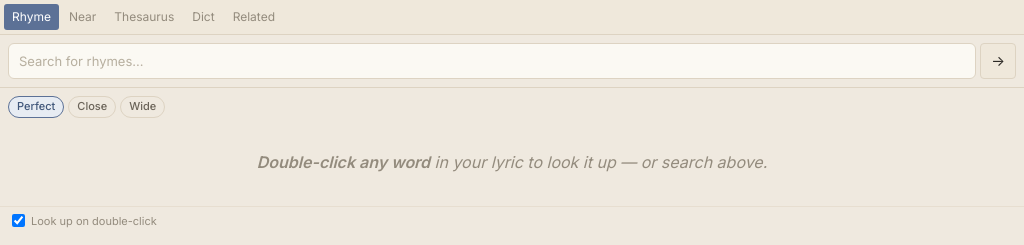
Test: Tools pane empty state teaches the gesture (C-47) › T-14.32: with the gesture turned off, the empty state stops advertising it
The image size is (1024, 245).
Click the checkbox with test id "tools-lookup-pref-checkbox". click: x=18, y=221
box: [12,214,25,227]
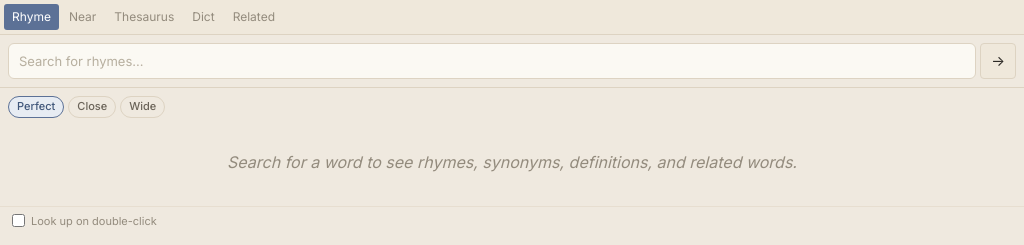
Expected: the element with test id "tools-results-empty" shows "Search", [227,152,797,172]
Result: the element with test id "tools-results-empty" no longer shows "double-click"
